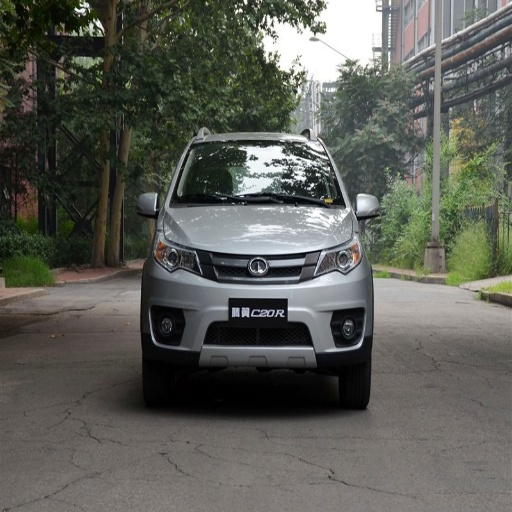front_bumper: (146, 248, 372, 371)
front_right_light: (153, 234, 200, 272)
hood: (163, 207, 352, 252)
